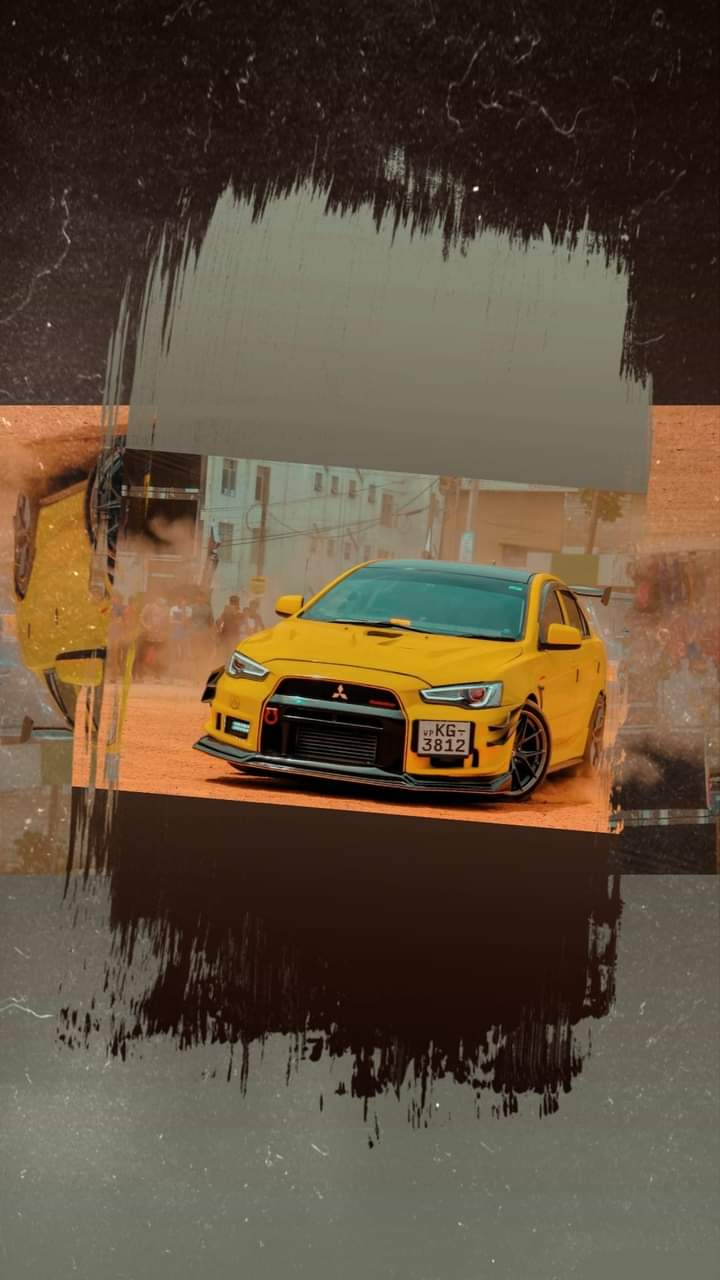number_plate: (413, 718, 473, 758)
